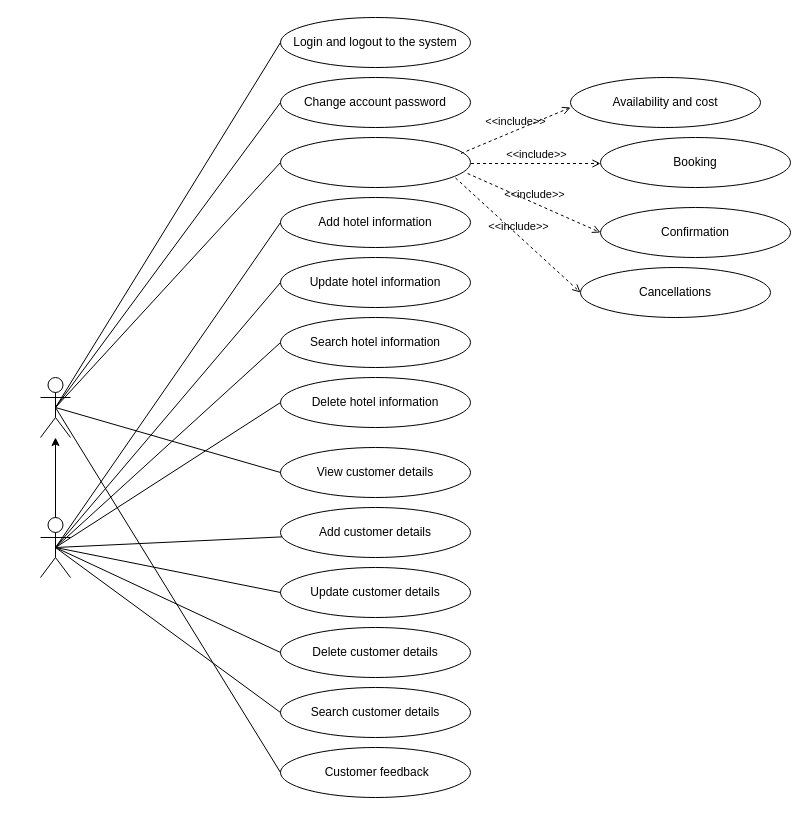
This 808x815 diagram has some shape labels left out. The shapes that lost their labels are listed below. From the top down, each one's centre as x and y in pixels, then its label:
At point 375,162: "Tour Package".
At point 55,407: "Customer".
At point 55,547: "System admin".
